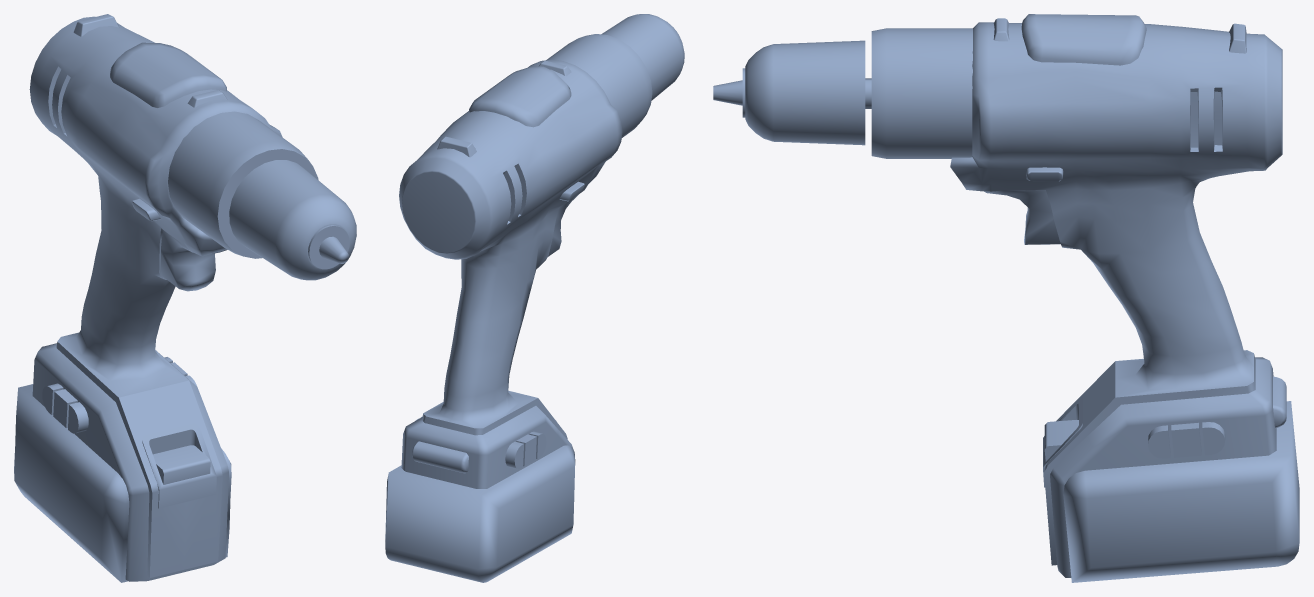
The model's file is Drill_01.fbx.
3 renders of one model, left to right at view 1: azimuth 30°, elevation 25°; view 2: azimuth 150°, elevation 25°; view 3: azimuth 270°, elevation 25°, orthographic. The views are drawn at different scales.
Visible parts, largest first — view 1: SM_Drill_LOD0; view 2: SM_Drill_LOD0; view 3: SM_Drill_LOD0.
Boxes of the visible parts, x1,y1,x2,y2 form: SM_Drill_LOD0: (14,14,356,582); SM_Drill_LOD0: (385,14,684,582); SM_Drill_LOD0: (713,14,1299,582).
Bounding box in the file's own units: 15.57 × 54.96 × 54.31.
